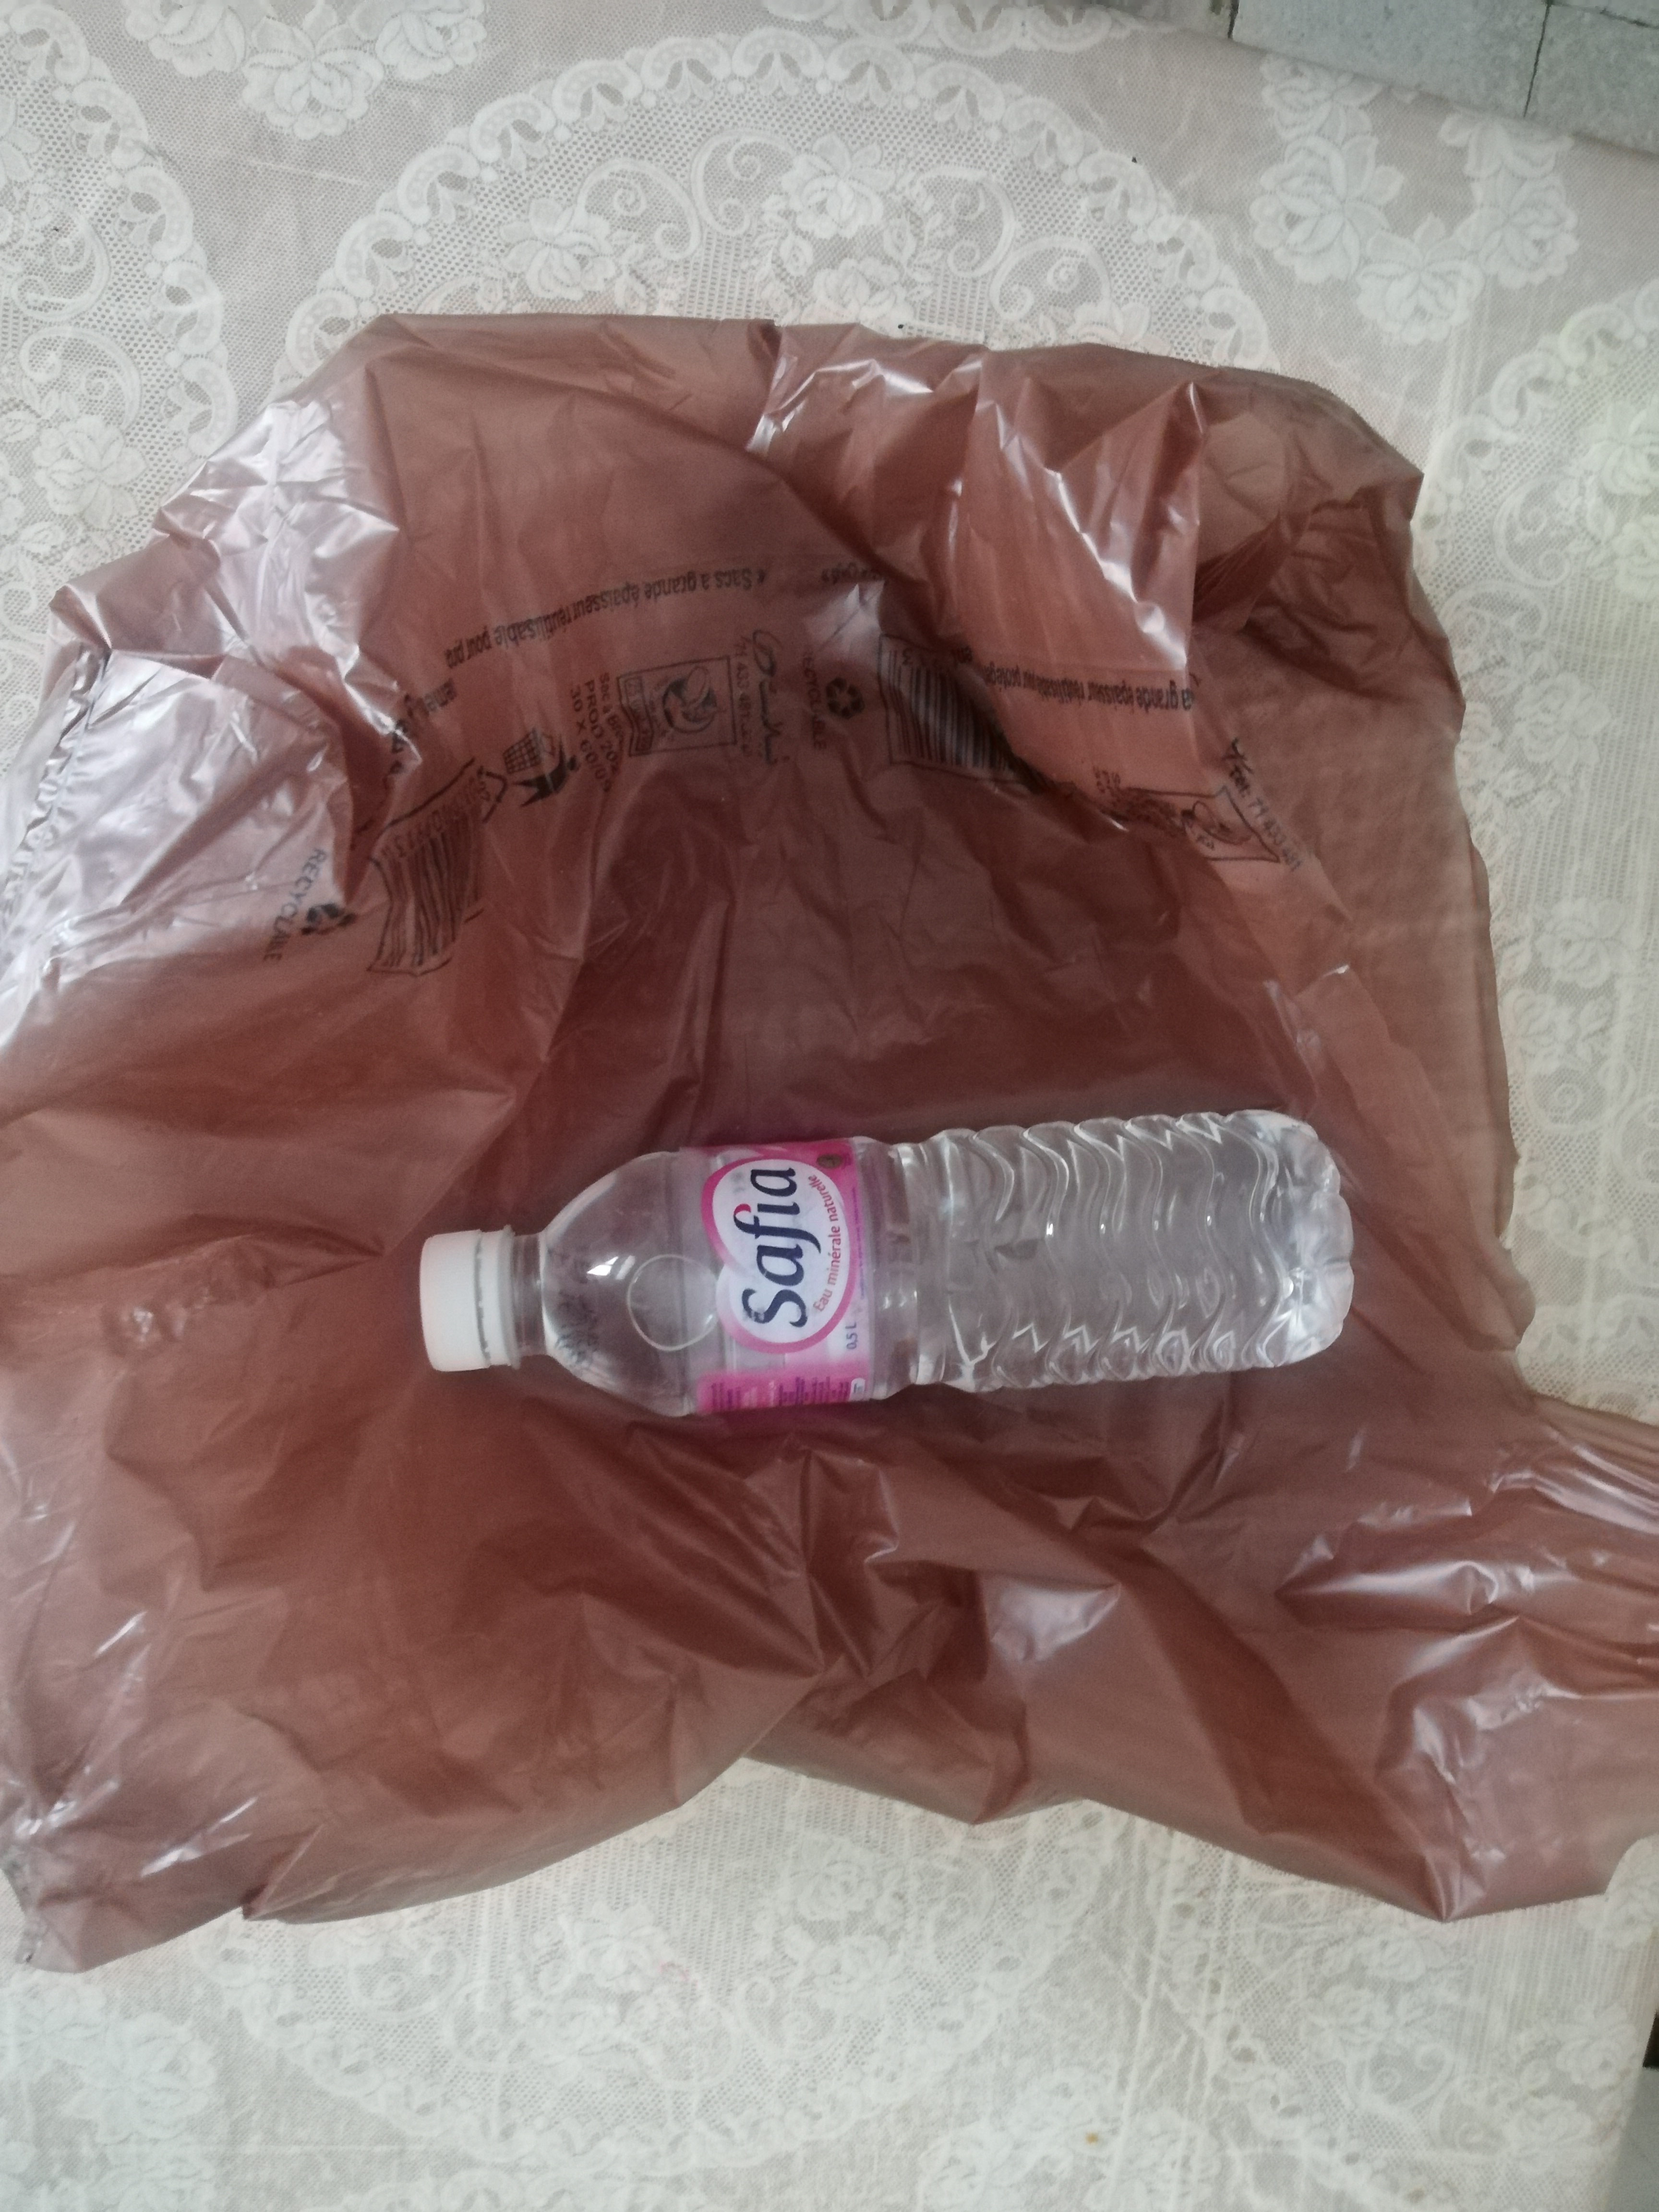Eau safia: (422, 1113, 1371, 1442)
